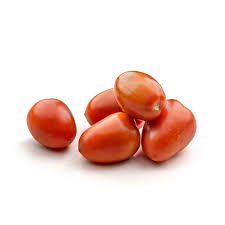tomate: (22, 64, 201, 162)
